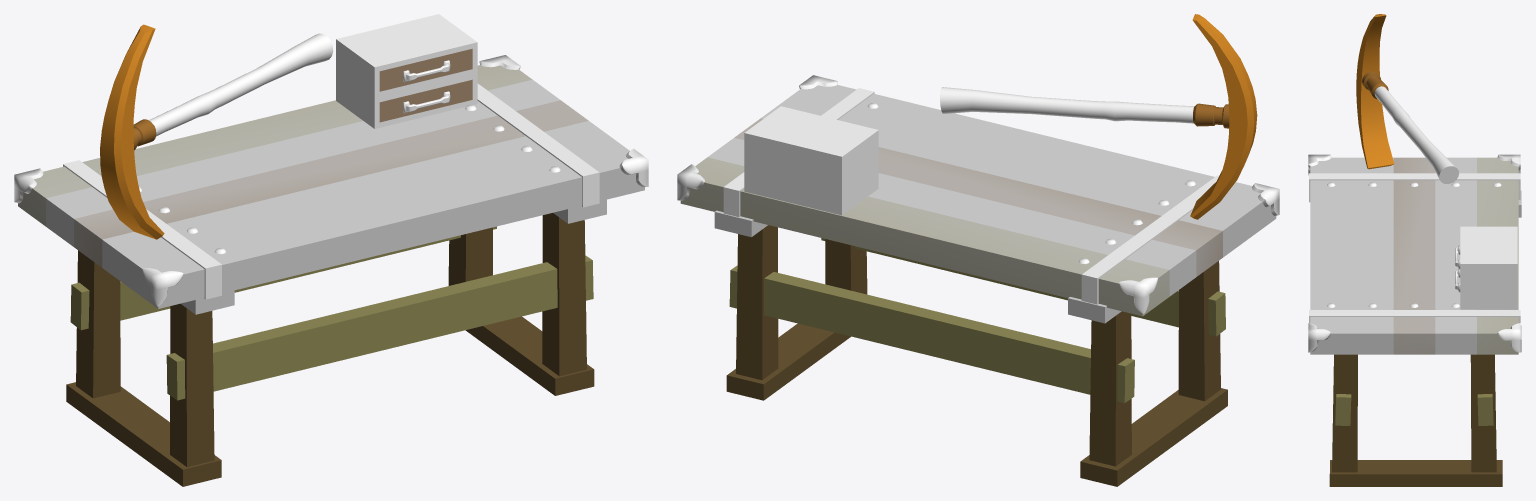
File: workbench_drawers.glb
3 renders of one model, left to right at view 1: azimuth 30°, elevation 25°; view 2: azimuth 150°, elevation 25°; view 3: azimuth 270°, elevation 25°, orthographic. The views are drawn at different scales.
Parts seen in each view (by area): view 1: Cube163, Cube028, Pickaxe_Bronze, Cube163_1, Cube028_1; view 2: Cube163, Cube028, Pickaxe_Bronze, Cube163_1; view 3: Cube163, Pickaxe_Bronze, Cube028, Cube163_1.
Boxes of the visible parts, bbox=[...] form: Cube163: bbox=[18, 65, 644, 486]; Cube028: bbox=[336, 14, 477, 128]; Pickaxe_Bronze: bbox=[100, 24, 333, 239]; Cube163_1: bbox=[14, 55, 648, 306]; Cube028_1: bbox=[402, 60, 450, 113]; Cube163: bbox=[680, 85, 1276, 486]; Cube028: bbox=[744, 106, 878, 215]; Pickaxe_Bronze: bbox=[940, 14, 1257, 219]; Cube163_1: bbox=[677, 75, 1279, 313]; Cube163: bbox=[1310, 157, 1521, 486]; Pickaxe_Bronze: bbox=[1356, 14, 1458, 183]; Cube028: bbox=[1460, 226, 1517, 309]; Cube163_1: bbox=[1308, 154, 1520, 352].
Bounding box in the file's own units: 2.08 × 1.71 × 1.02.
